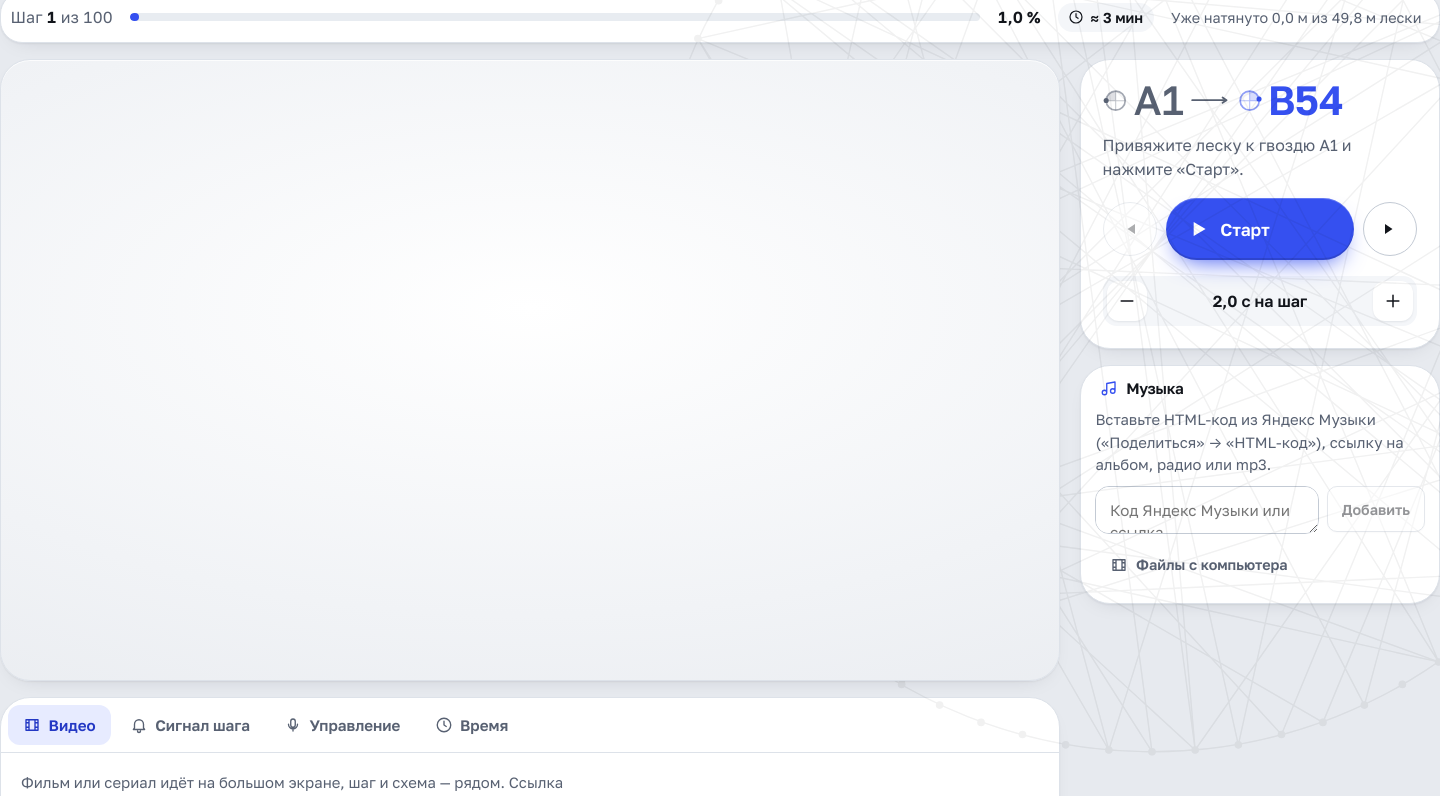
Test: плетение: кликер, голос, катушка, перерыв › кликер: PageDown/PageUp листают, B — старт и пауза; вкладка показывает клавишу
This screenshot has width=1440, height=796.
Press PageDown
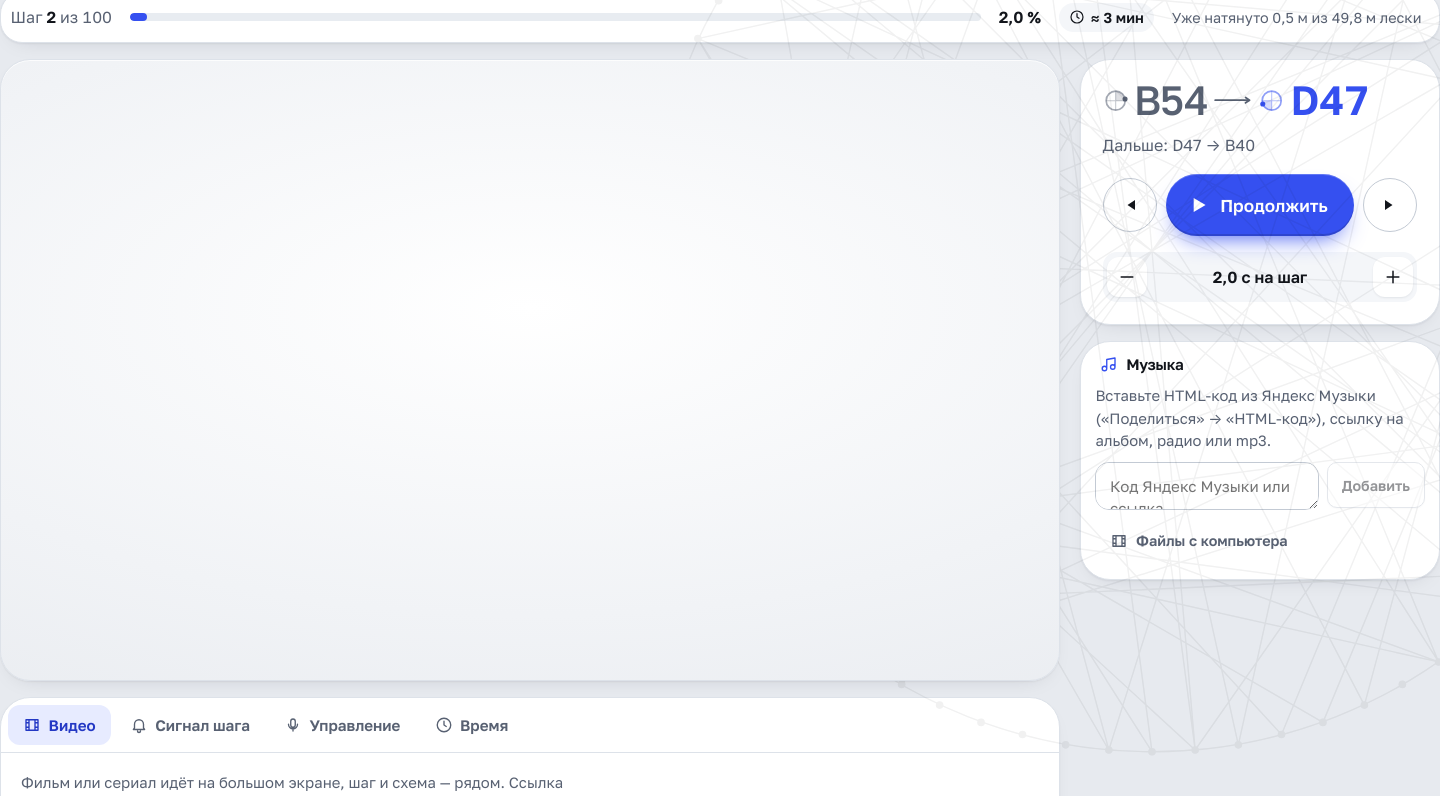
#  Ещё раз
Press PageDown
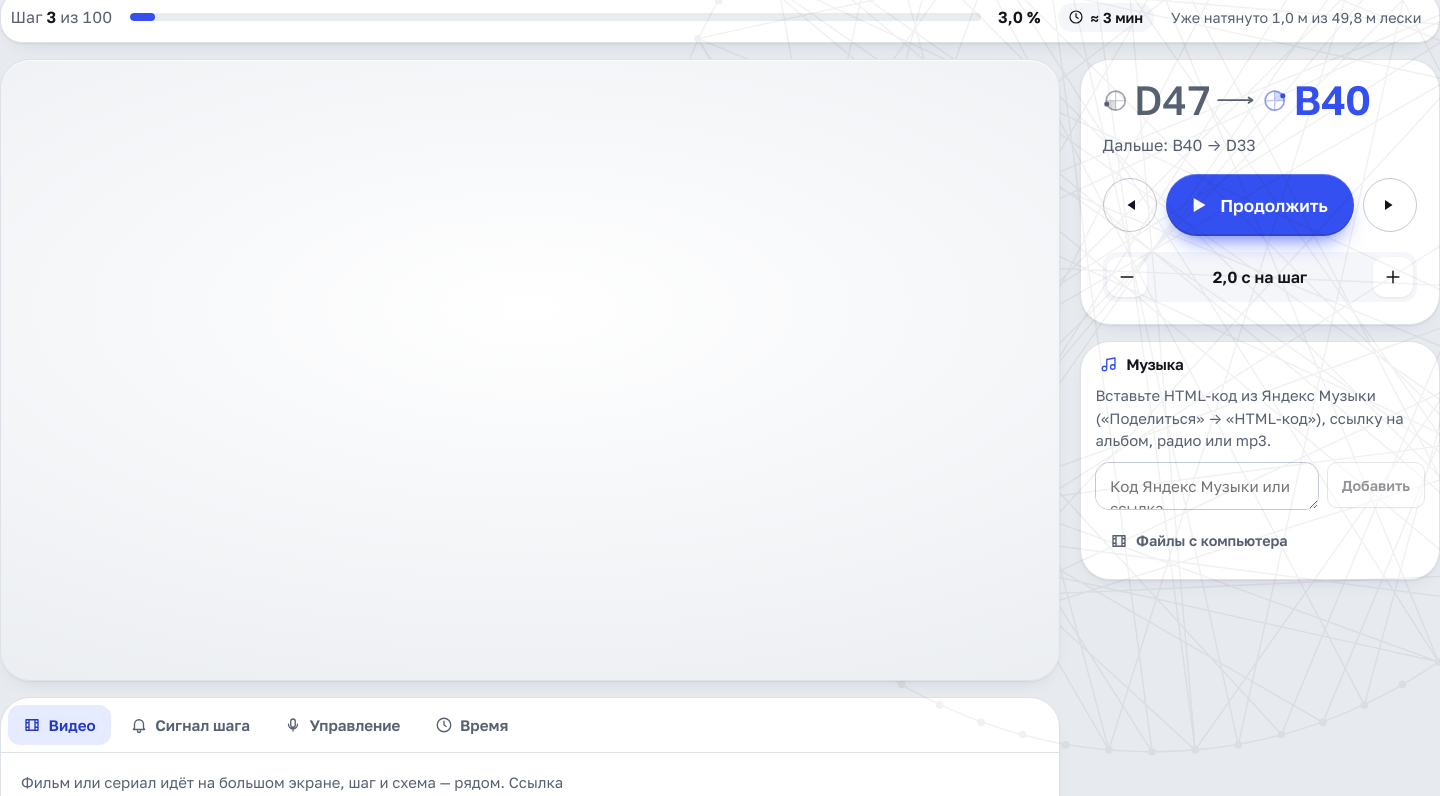
Expected: the element with test id "step-counter" shows "Шаг 3 из", [11,5,112,29]
Press PageUp
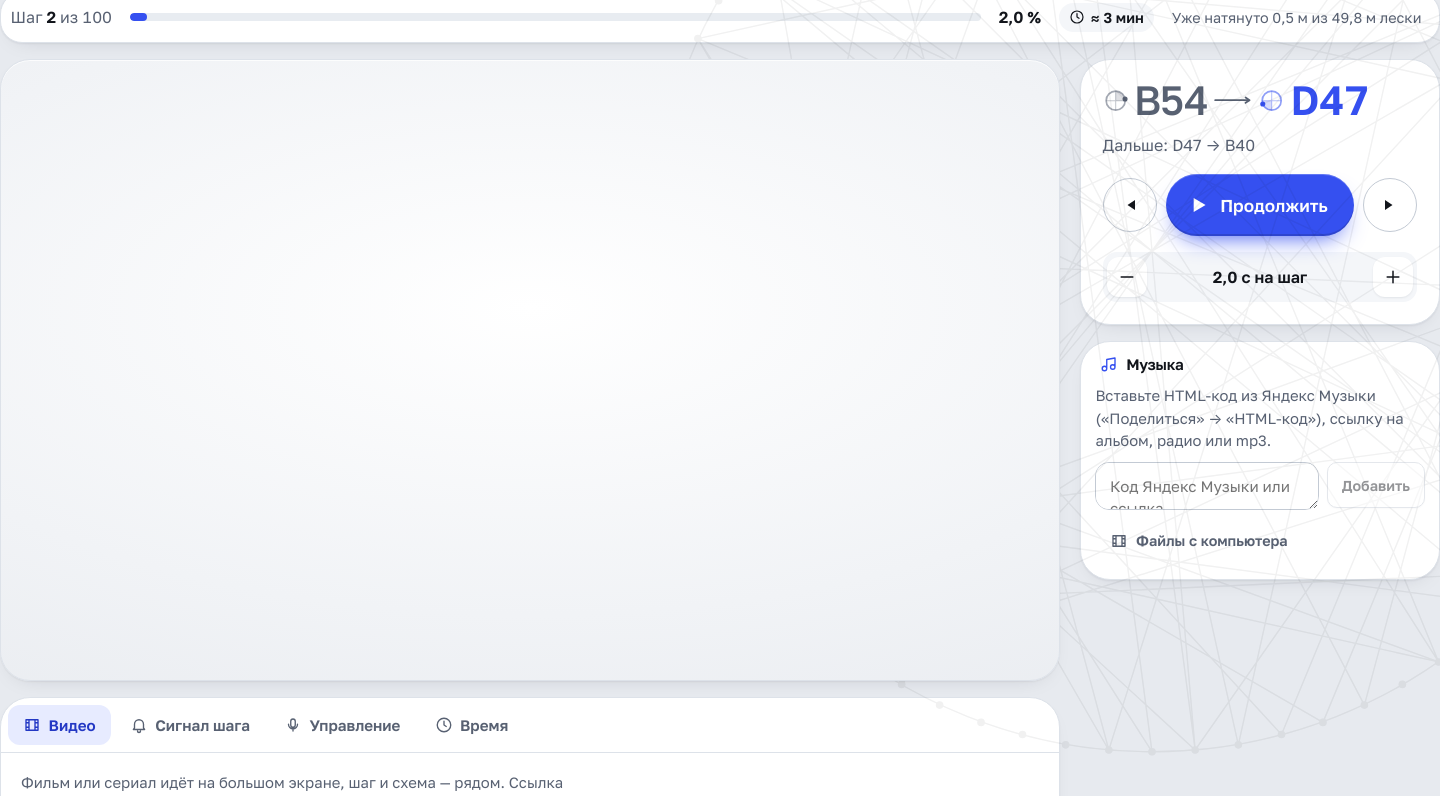
Expected: the element with test id "step-counter" shows "Шаг 2 из", [11,5,112,29]
Press b
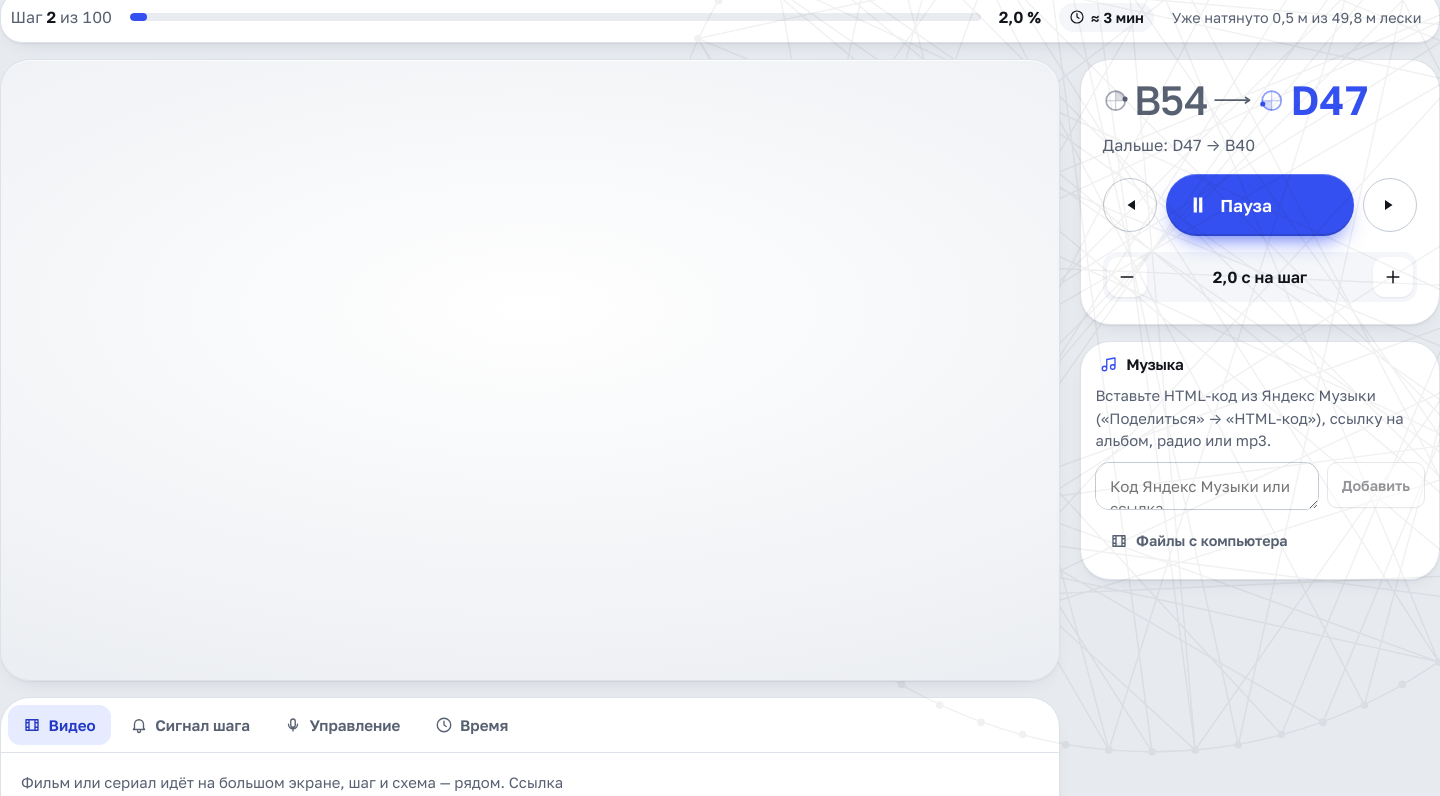
Expected: the button "Пауза" is shown, [1166,174,1354,236]
# Вкладка «Управление»
Click the tab "Управление": coordinates (342, 725) [269,705,416,745]
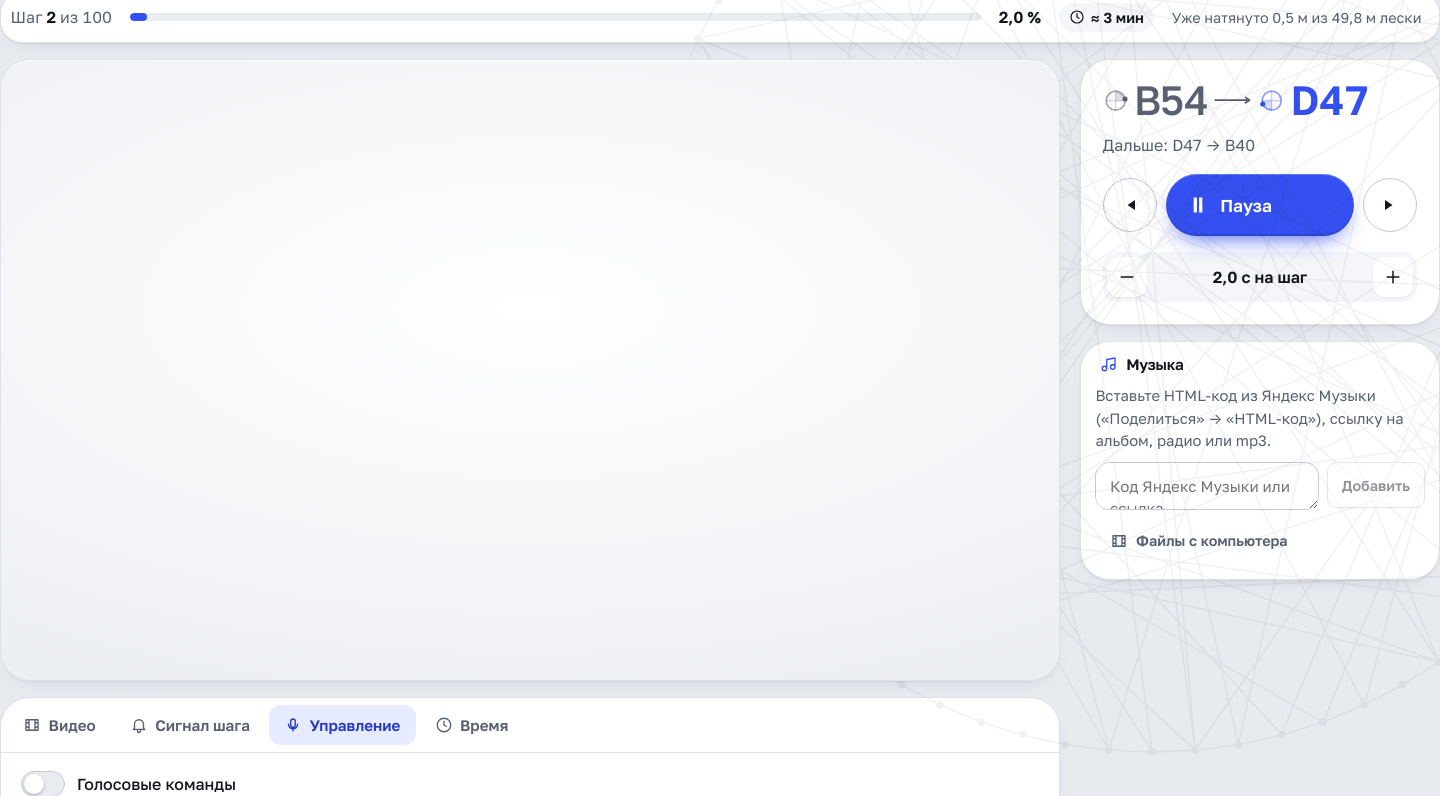
# Нажимаем клавишу —
Press PageDown
(page scrolled)
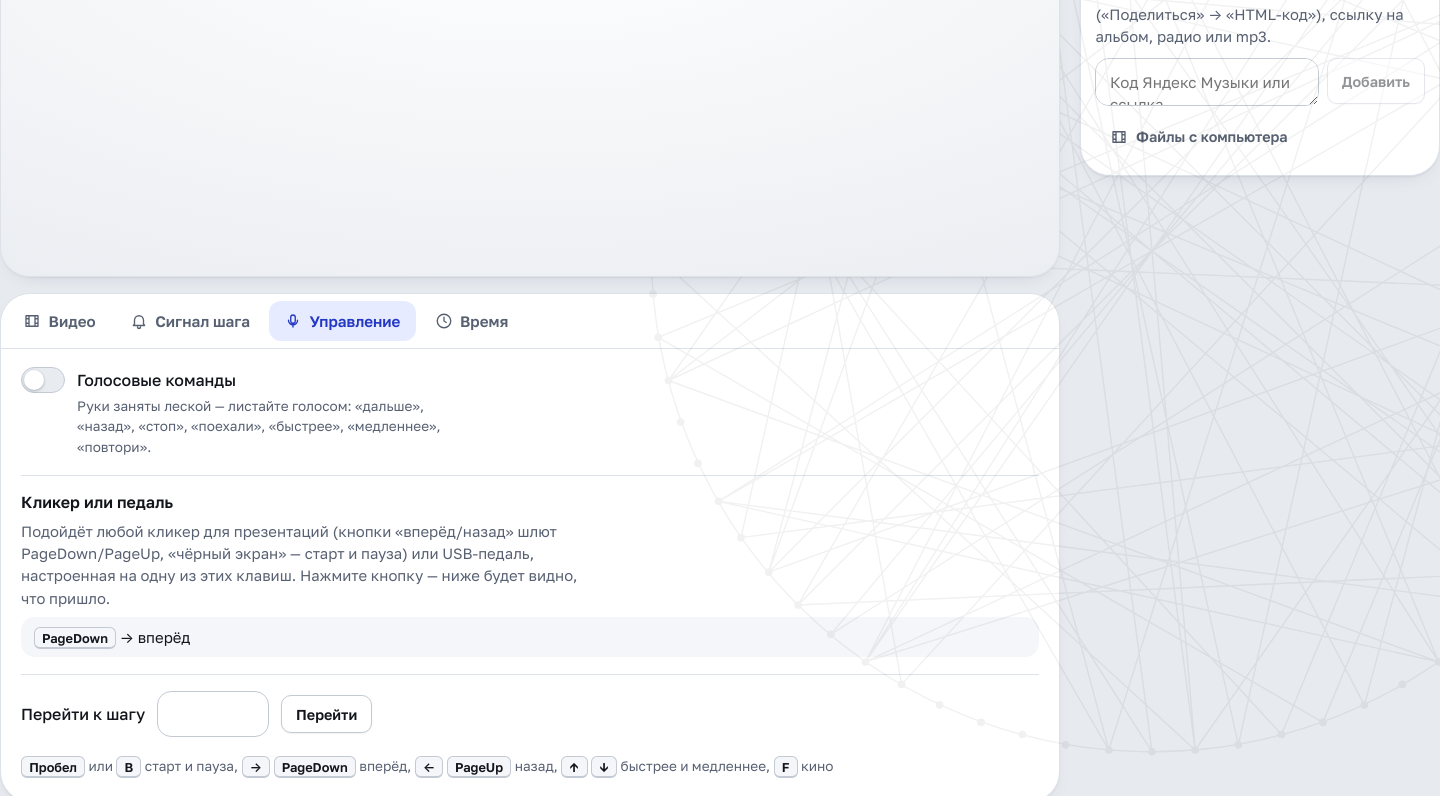
Expected: the element with test id "key-test" reads "PageDown → вперёд", [21,617,1039,657]
